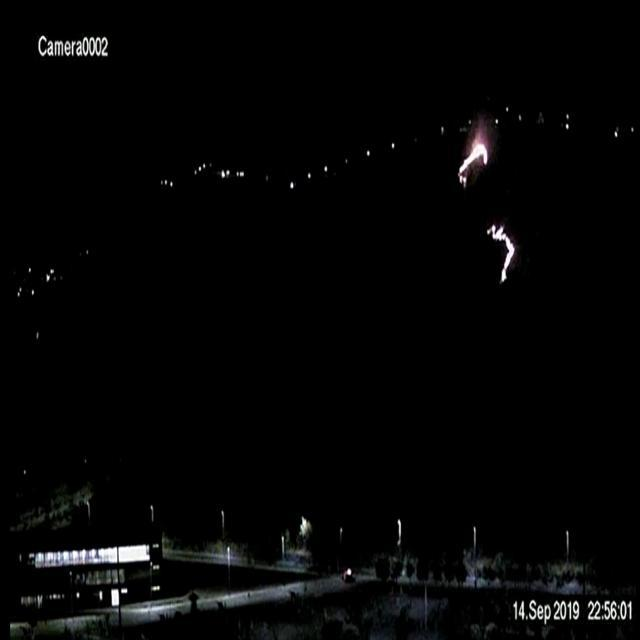Fire: (450, 135, 487, 186), (486, 222, 516, 284)
